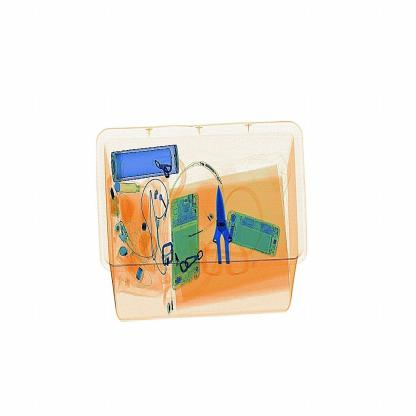gun: (203, 170, 248, 288)
